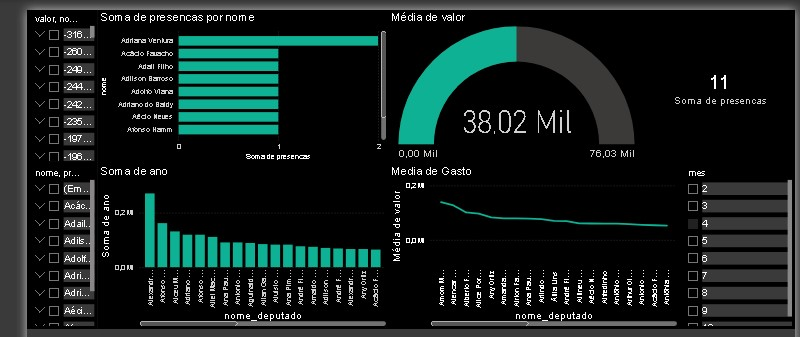

The dashboard page shown, as its layout file describes it:
{"tool":"powerbi","page":{"name":"Página 1","canvas":[1280,720],"ordinal":0},"visuals":[{"type":"lineChart","title":"Media de Gasto","fields":{"Y":["Avg(despesas_deputados.valor)"],"Category":["despesas_deputados.nome_deputado"]},"box":[603.3,256.7,485,275],"z":0},{"type":"columnChart","title":"Soma de ano ","fields":{"Y":["Sum(despesas_deputados.ano)"],"Category":["despesas_deputados.nome_deputado"]},"box":[118.3,256.7,485,275],"z":1},{"type":"clusteredBarChart","fields":{"Y":["Sum(frequencias_deputados (2).presencas)"],"Category":["frequencias_deputados (2).nome"]},"box":[118.3,0,485,256.7],"z":2},{"type":"slicer","fields":{"Values":["frequencias_deputados.nome","frequencias_deputados.presencas"]},"box":[0,256.7,118.3,275],"z":5},{"type":"slicer","fields":{"Values":["despesas_deputados.valor","despesas_deputados.nome_deputado"]},"box":[0,0,118.3,256.7],"z":6},{"type":"gauge","fields":{"Y":["Avg(despesas_deputados.valor)"]},"box":[603.3,0,425,256.7],"z":7},{"type":"card","fields":{"Values":["Sum(frequencias_deputados.presencas)"]},"box":[1028.3,0,251.7,256.7],"z":8},{"type":"slicer","fields":{"Values":["despesas_deputados.mes"]},"box":[1088.3,256.7,191.7,275],"z":9}]}

Visuals, with their boxes on the page's 1280x720 design canvas (x1, y1, x2, y2). These are canvas units, not pixel positions in the 800x337 screenshot, which may show the page scaled, cropped or inside an application window:
"Media de Gasto" lineChart: <bbox>603, 257, 1088, 532</bbox>
"Soma de ano " columnChart: <bbox>118, 257, 603, 532</bbox>
clusteredBarChart - Sum(frequencias_deputados (2).presencas) x frequencias_deputados (2).nome: <bbox>118, 0, 603, 257</bbox>
slicer - frequencias_deputados.nome x frequencias_deputados.presencas: <bbox>0, 257, 118, 532</bbox>
slicer - despesas_deputados.valor x despesas_deputados.nome_deputado: <bbox>0, 0, 118, 257</bbox>
gauge - Avg(despesas_deputados.valor): <bbox>603, 0, 1028, 257</bbox>
card - Sum(frequencias_deputados.presencas): <bbox>1028, 0, 1280, 257</bbox>
slicer - despesas_deputados.mes: <bbox>1088, 257, 1280, 532</bbox>
